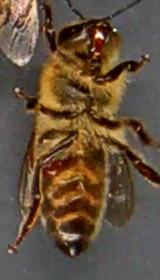varroa_mite: (36, 153, 68, 179)
